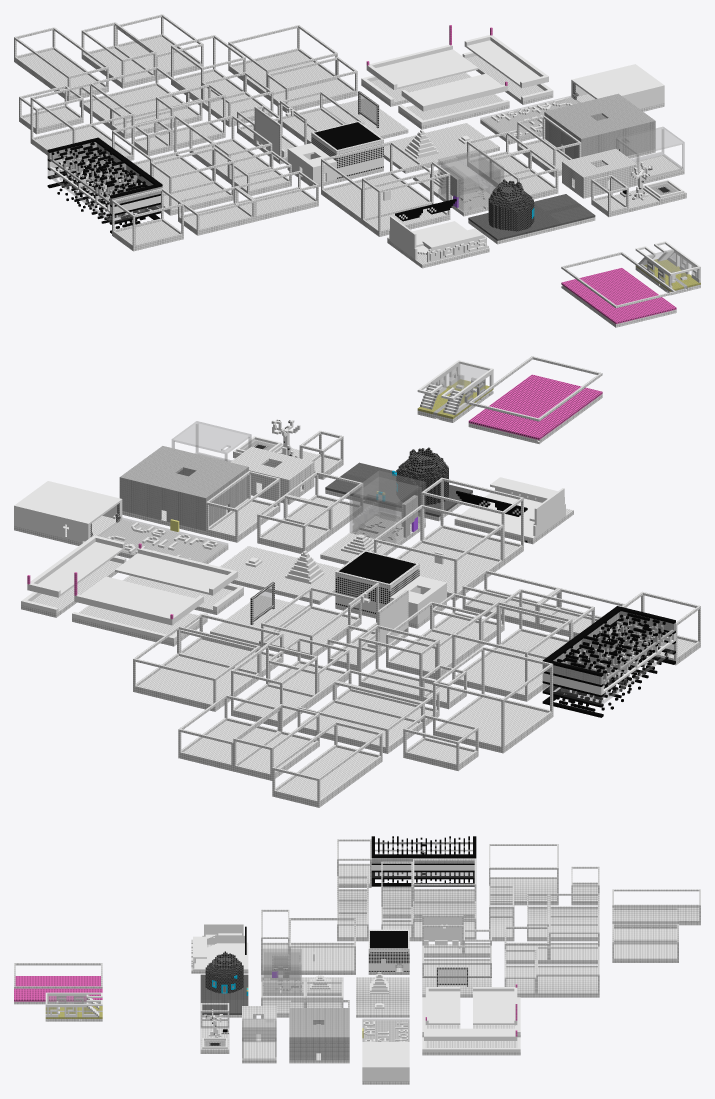
Rendered from Memes-v1.glb.
The picture shows the model from 3 angles, top to bottom: view 1: azimuth 30°, elevation 25°; view 2: azimuth 150°, elevation 25°; view 3: azimuth 270°, elevation 25°; orthographic projection. The views are drawn at different scales.
Visible parts, largest first — view 1: solid-voxels_51.010, solid-voxels_26.012, solid-voxels_30.012, solid-voxels_27.012, solid-voxels_53.010, solid-voxels_32.012, solid-voxels_19.013, solid-voxels_2.013, solid-voxels_31.012, solid-voxels_34.012, solid-voxels_48.011, glass-voxels_6.012 (+46 smaller); view 2: solid-voxels_51.010, solid-voxels_26.012, solid-voxels_30.012, solid-voxels_3.013, solid-voxels_19.013, solid-voxels_34.012, solid-voxels_27.012, solid-voxels_2.013, solid-voxels_9.013, solid-voxels_5.013, solid-voxels_53.010, glass-voxels_6.012 (+46 smaller); view 3: solid-voxels_51.010, solid-voxels_26.012, solid-voxels_53.010, solid-voxels_30.012, solid-voxels_19.013, solid-voxels_3.013, solid-voxels_27.012, solid-voxels_34.012, solid-voxels_9.013, solid-voxels_32.012, solid-voxels_2.013, solid-voxels_31.012 (+45 smaller).
Part boxes in pixels (left/top/right/bottom): solid-voxels_51.010: left=47, top=137, right=162, bottom=233; solid-voxels_26.012: left=544, top=93, right=655, bottom=158; solid-voxels_30.012: left=561, top=252, right=676, bottom=327; solid-voxels_27.012: left=387, top=199, right=489, bottom=268; solid-voxels_53.010: left=321, top=141, right=430, bottom=223; solid-voxels_32.012: left=468, top=179, right=561, bottom=244; solid-voxels_19.013: left=228, top=25, right=337, bottom=98; solid-voxels_2.013: left=14, top=27, right=108, bottom=100; solid-voxels_31.012: left=311, top=121, right=383, bottom=182; solid-voxels_34.012: left=571, top=64, right=664, bottom=111; solid-voxels_48.011: left=361, top=52, right=447, bottom=106; glass-voxels_6.012: left=438, top=149, right=503, bottom=212; solid-voxels_51.010: left=542, top=606, right=675, bottom=717; solid-voxels_26.012: left=119, top=446, right=248, bottom=534; solid-voxels_30.012: left=468, top=356, right=602, bottom=443; solid-voxels_3.013: left=433, top=646, right=553, bottom=753; solid-voxels_19.013: left=133, top=626, right=260, bottom=711; solid-voxels_34.012: left=14, top=481, right=122, bottom=545; solid-voxels_27.012: left=454, top=477, right=573, bottom=544; solid-voxels_2.013: left=272, top=721, right=382, bottom=807; solid-voxels_9.013: left=452, top=601, right=572, bottom=701; solid-voxels_5.013: left=297, top=681, right=423, bottom=753; solid-voxels_53.010: left=374, top=505, right=503, bottom=600; glass-voxels_6.012: left=350, top=470, right=425, bottom=547; solid-voxels_51.010: left=371, top=836, right=476, bottom=886; solid-voxels_26.012: left=289, top=1008, right=349, bottom=1063; solid-voxels_53.010: left=289, top=918, right=355, bottom=974; solid-voxels_30.012: left=14, top=963, right=102, bottom=1004; solid-voxels_19.013: left=536, top=946, right=599, bottom=997; solid-voxels_3.013: left=489, top=844, right=558, bottom=905; solid-voxels_27.012: left=191, top=924, right=248, bottom=973; solid-voxels_34.012: left=362, top=1042, right=409, bottom=1084; solid-voxels_9.013: left=413, top=859, right=476, bottom=917; solid-voxels_32.012: left=200, top=951, right=248, bottom=999; solid-voxels_2.013: left=612, top=889, right=700, bottom=925; solid-voxels_31.012: left=368, top=930, right=409, bottom=974.
Size of the model in its own units: 162 by 13 by 217.
2 materials, 1 textured.
